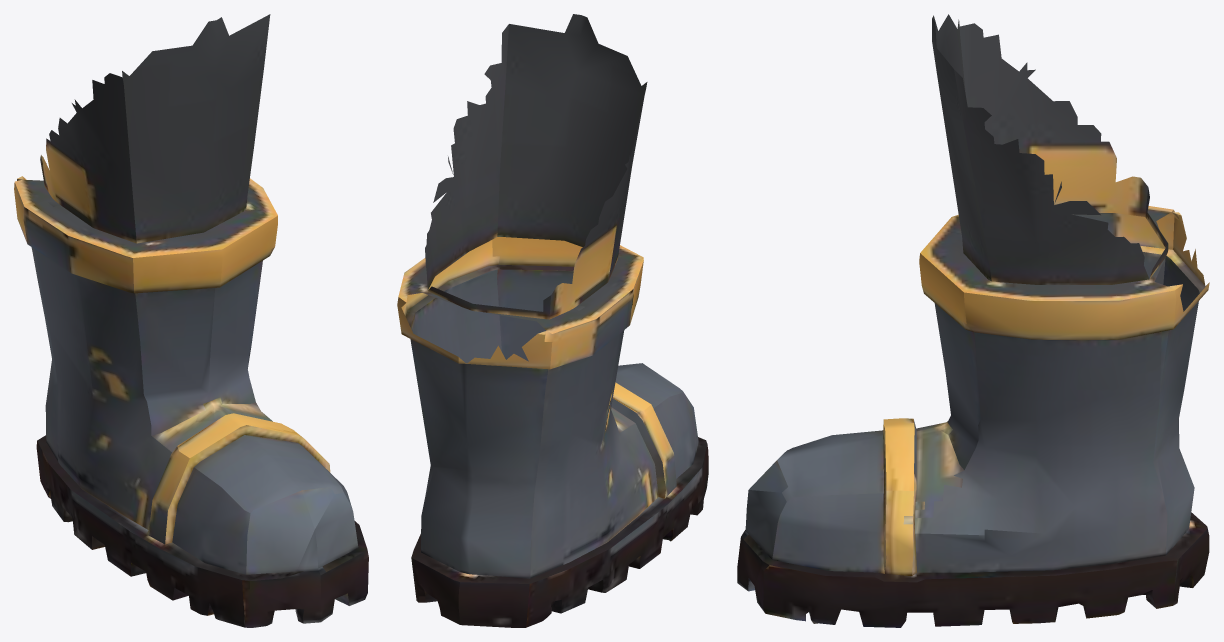
The model's file is templar_boot_A.glb.
The picture shows the model from 3 angles, left to right: view 1: azimuth 30°, elevation 25°; view 2: azimuth 150°, elevation 25°; view 3: azimuth 270°, elevation 25°; orthographic projection. The views are drawn at different scales.
Visible parts, largest first — view 1: boot_L; view 2: boot_L; view 3: boot_L.
Part boxes in pixels (bbox=[...]): boot_L: bbox=[14, 14, 368, 627]; boot_L: bbox=[397, 14, 708, 627]; boot_L: bbox=[737, 14, 1209, 627].
Size of the model in its own units: 0.1385 by 0.349 by 0.2663.
Materials: 1 (1 with a texture image).
